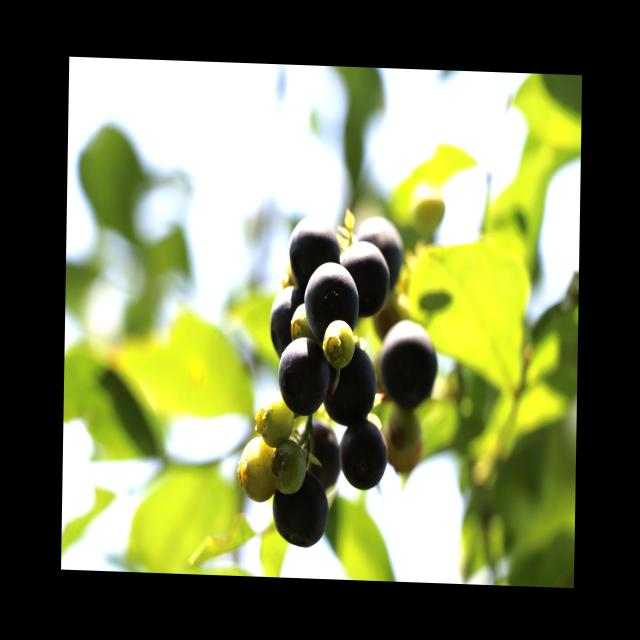blueberry: (377, 312, 438, 411), (270, 466, 330, 551), (275, 332, 329, 414), (335, 415, 389, 493), (326, 346, 378, 426), (287, 214, 341, 291), (304, 262, 358, 338), (338, 241, 388, 319), (357, 214, 406, 289), (298, 412, 342, 484), (268, 282, 296, 353)
blueberry-unripe: (239, 435, 277, 504), (270, 436, 306, 494), (255, 390, 292, 444), (326, 318, 354, 365)
